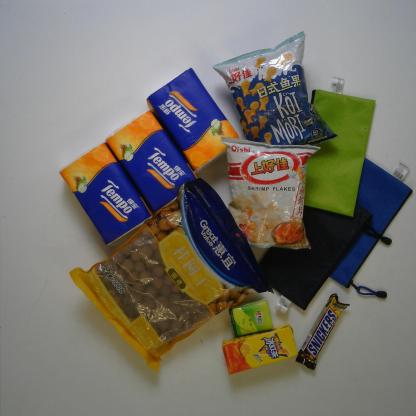Chocolate: (294, 293, 350, 371)
Dried Food: (69, 178, 275, 374)
Drink: (222, 323, 298, 375)
Puffed Food: (212, 30, 339, 147), (220, 136, 321, 250)
Stationery: (257, 203, 373, 311), (328, 157, 413, 291), (304, 89, 376, 218)
Tissue: (146, 68, 240, 174), (58, 141, 152, 246), (104, 109, 199, 212), (229, 298, 273, 337)
